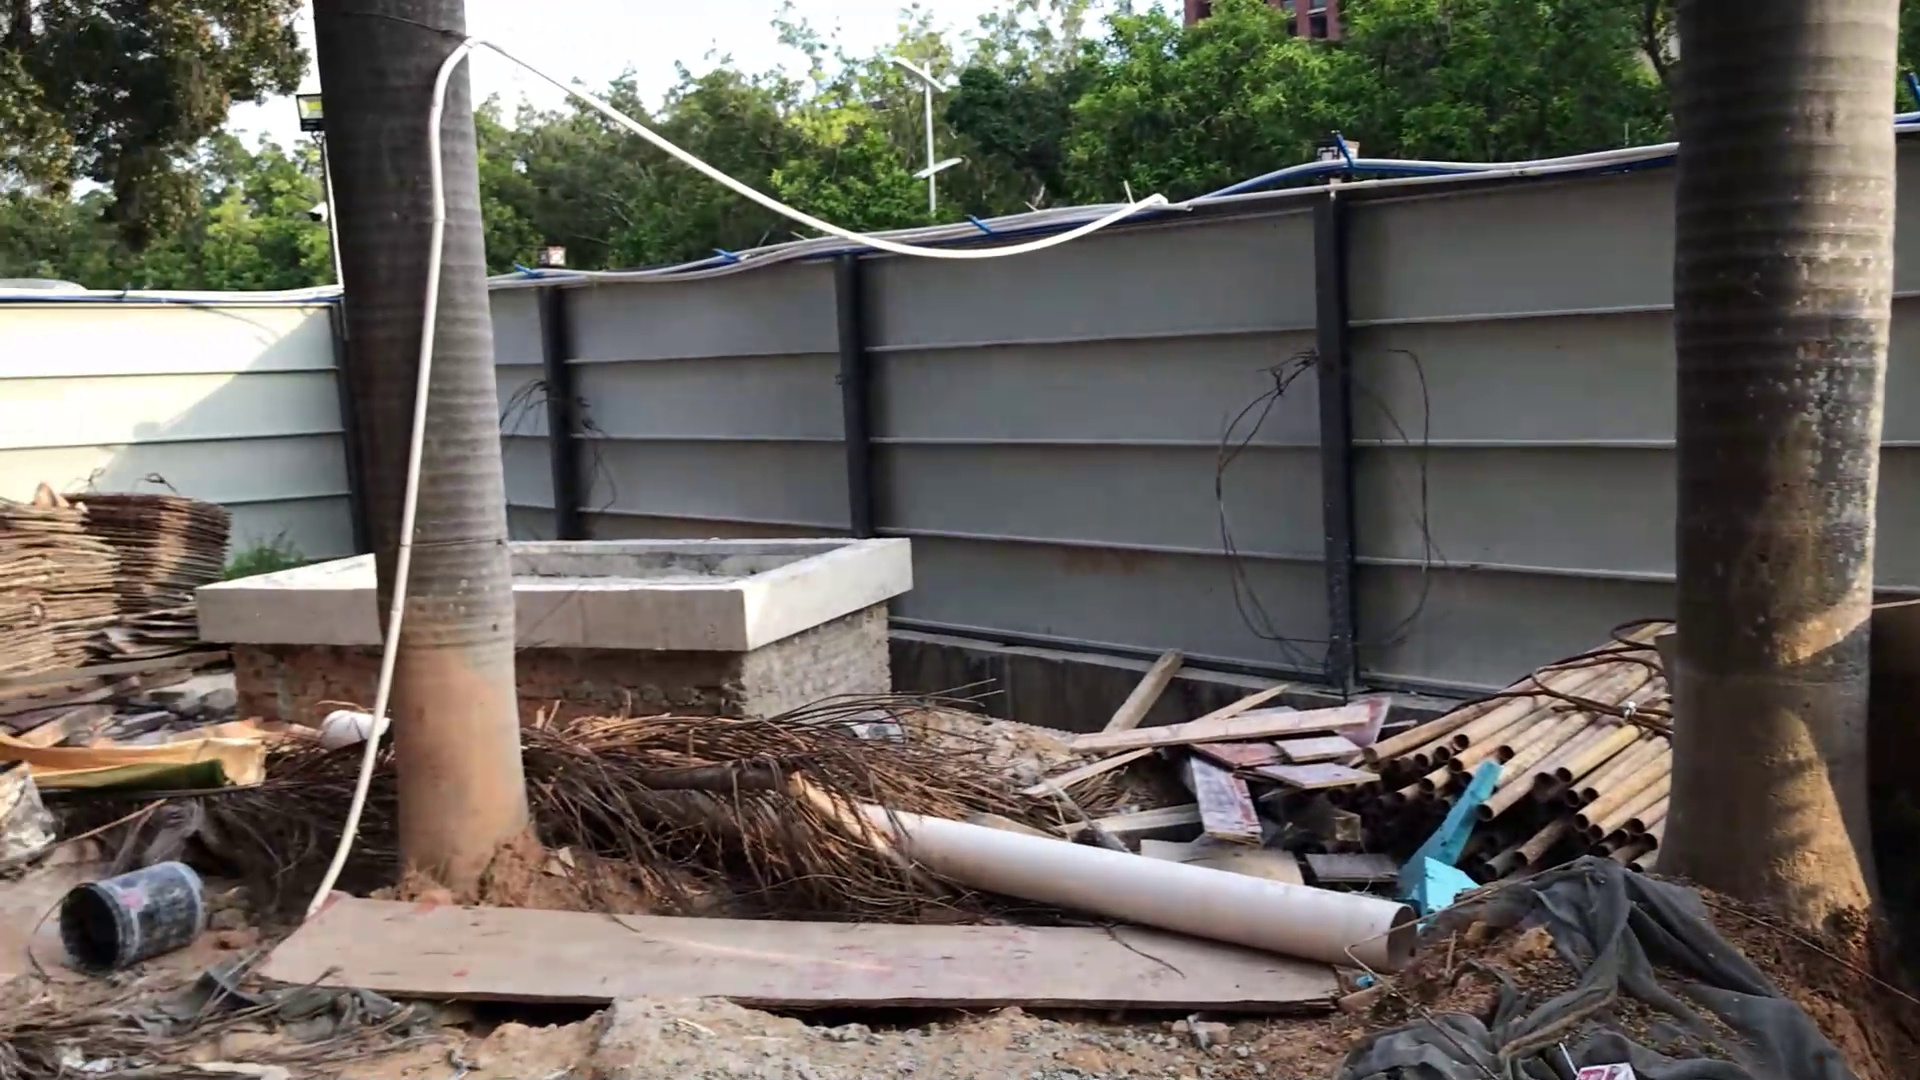scaffold: (1367, 617, 1676, 858)
